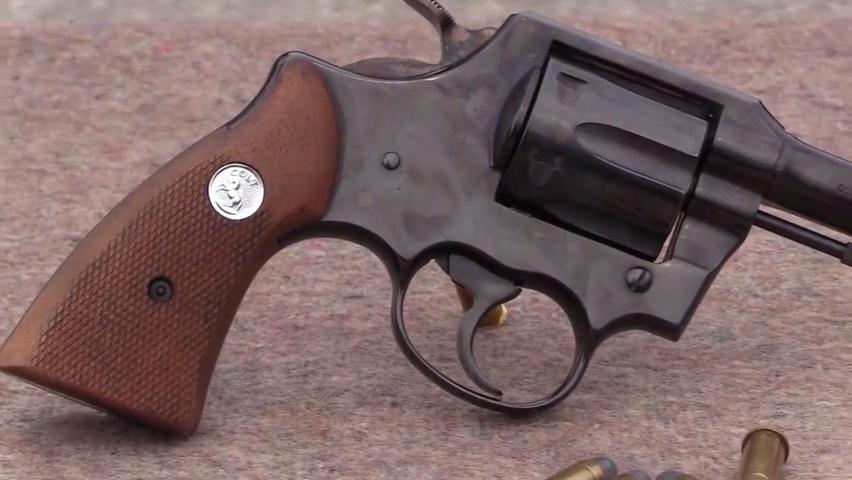gun: (3, 0, 851, 479)
